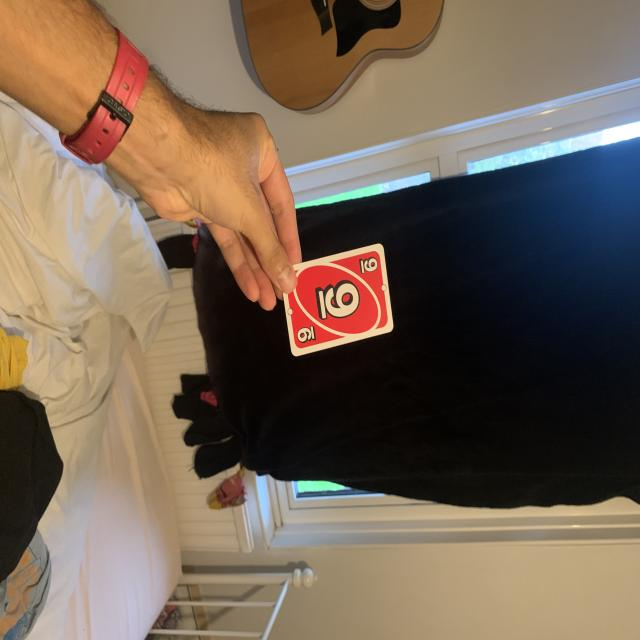lred-9: (356, 252, 380, 279)
